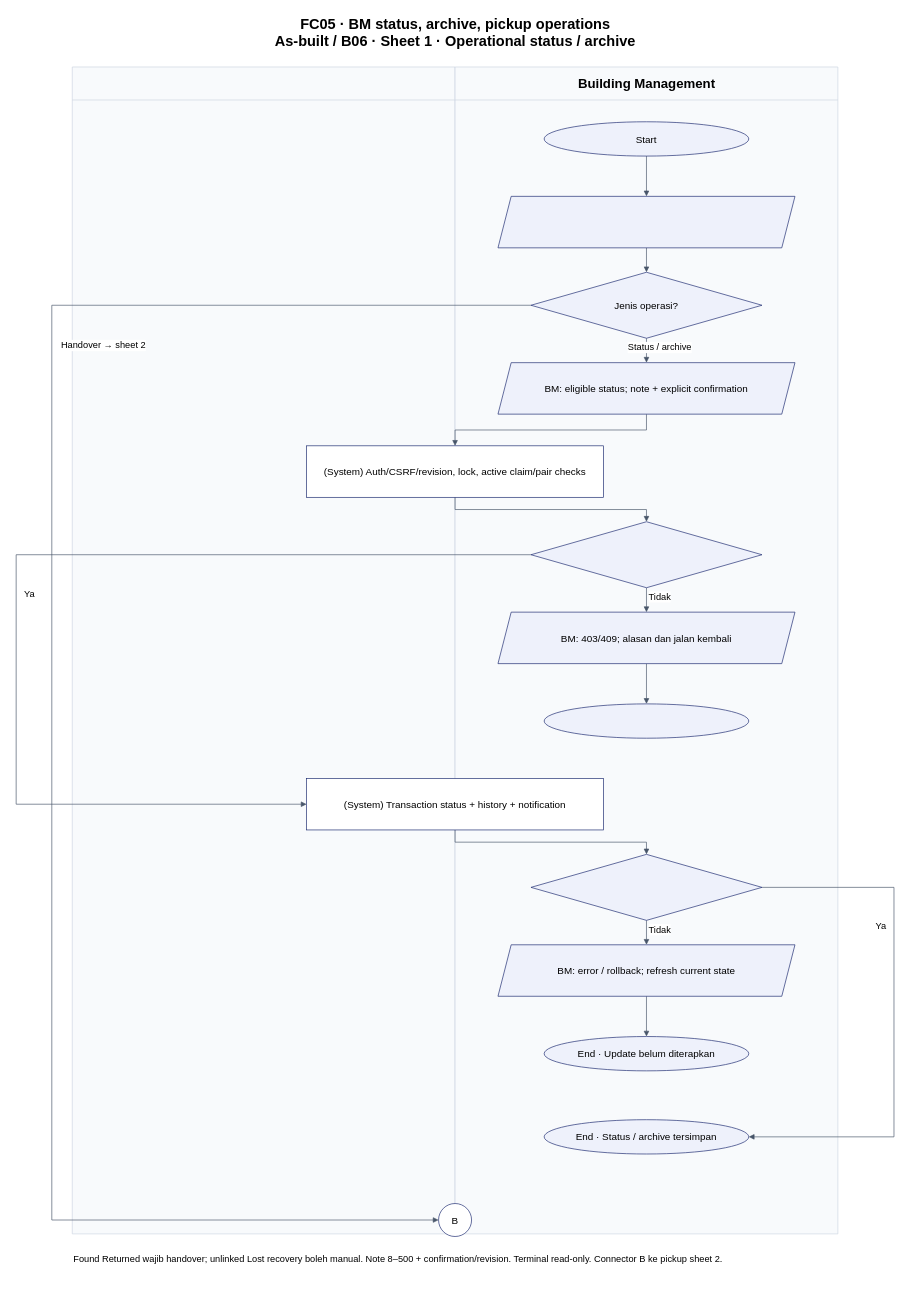
This 911x1289 diagram has some shape labels left out. The box of each missing label's shape, as (x1, y1, x2, y2) in pixels:
BM login: pilih report / approved handover: (497, 196, 795, 248)
Commit berhasil?: (530, 854, 762, 920)
End · Status tidak berubah: (544, 703, 749, 738)
Student: (72, 66, 455, 1234)
Transition diizinkan?: (530, 521, 762, 588)
